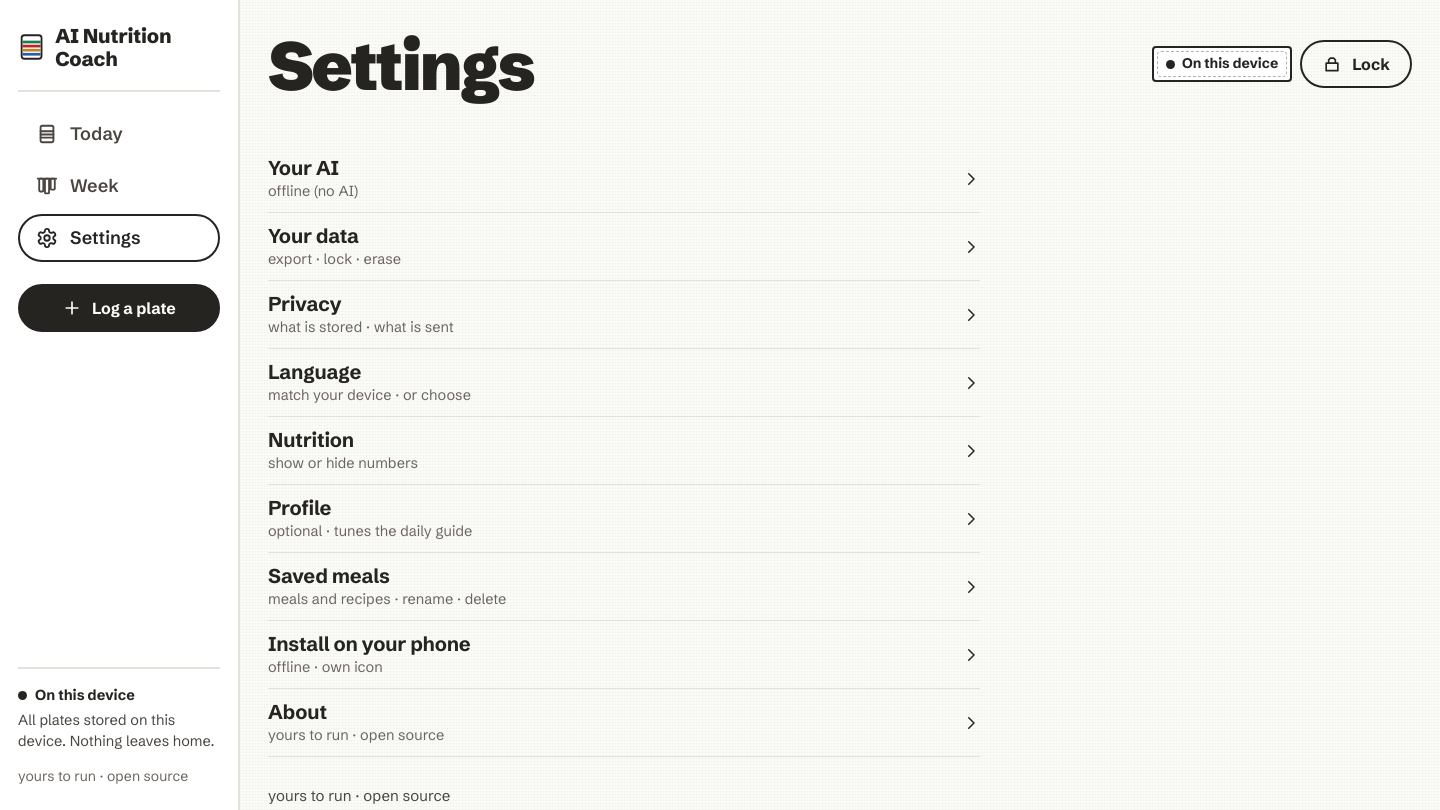
Test case: NutritionScreen › is reachable from the Settings board
Step 1. Click the button "Nutrition show or hide numbers" → point(311, 439), box [268,417,980,485]
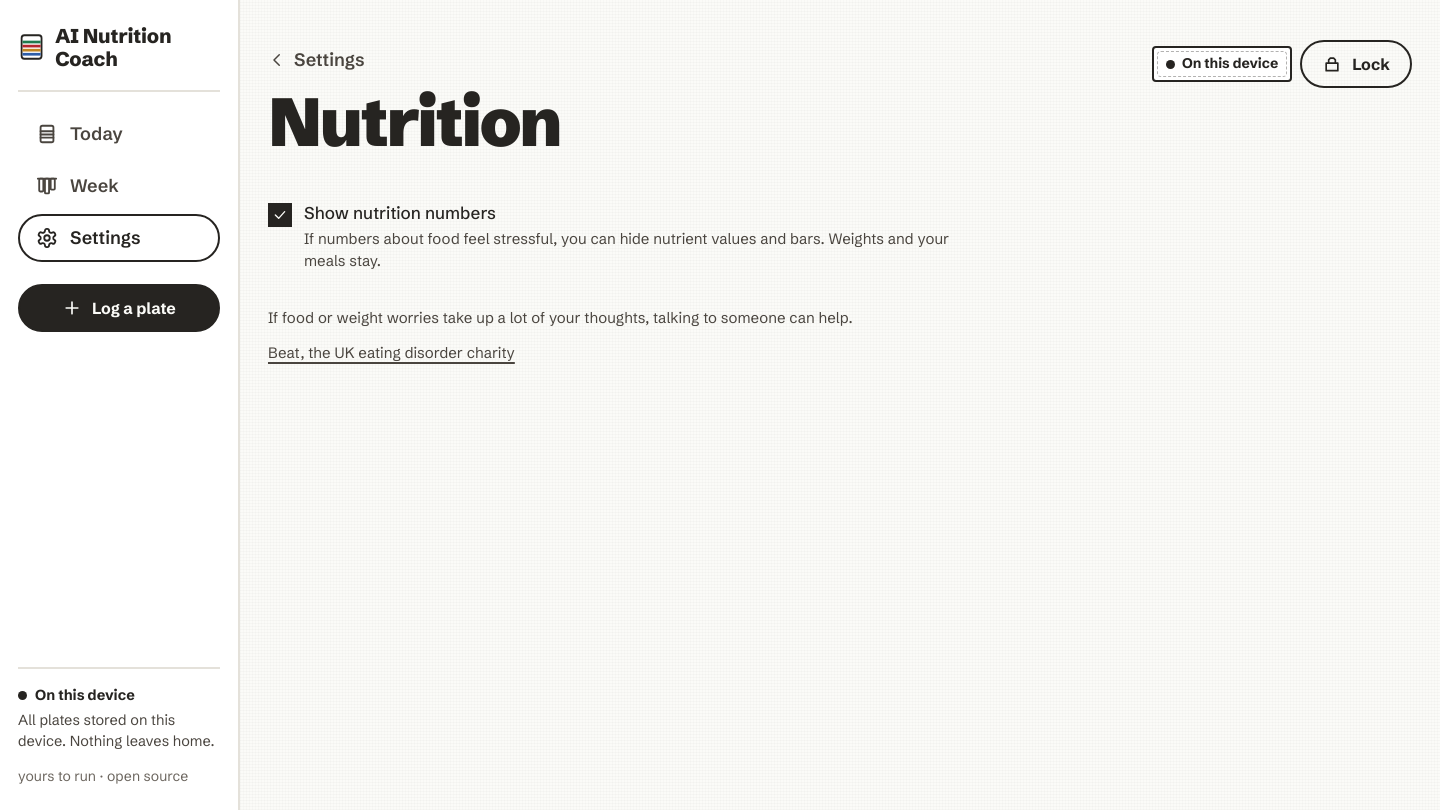
Expected: the switch labelled "Show nutrition numbers" is shown, [268,193,980,279]
